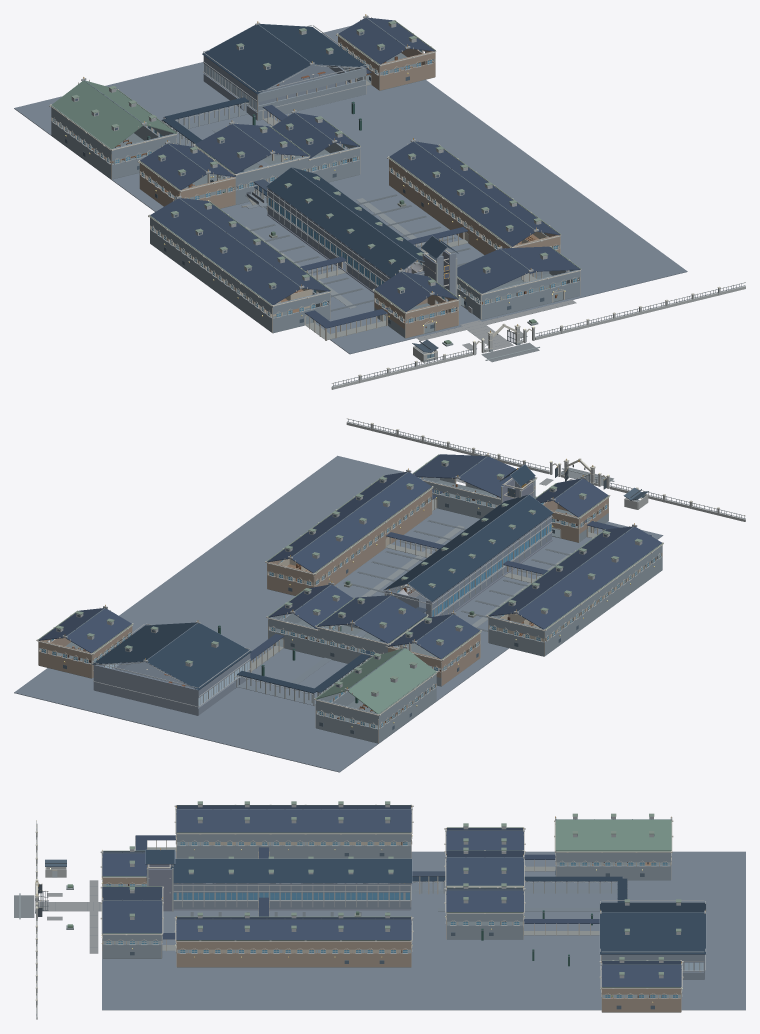
Rendered from lahudi-academy_GATE-FORECOURT_V13.glb.
3 views of the same model, one above another, from view 1: azimuth 30°, elevation 25°; view 2: azimuth 150°, elevation 25°; view 3: azimuth 270°, elevation 25° (orthographic). The views are drawn at different scales.
Visible parts, largest first — view 1: RG-GAME-02-EXTERIOR-REBUILD-V5__winter_campus_snowbase, RG-GAME-02-EXTERIOR-REBUILD-V5__academic_high_gable_slate_ro (×2), RG-GAME-02-EXTERIOR-REBUILD-V5__library_high_gable_slate_roo (×2), RG-GAME-02-PLAN-LOCK-V9__B_WEST_side_0, RG-GAME-02-PLAN-LOCK-V9__C_EAST_side_0, RG-GAME-02-PLAN-LOCK-V9__G_ASSEMBLY_side_0, RG-GAME-02-PLAN-LOCK-V9__B_WEST_side_1, RG-GAME-02-PLAN-LOCK-V9__B_WEST_west_wall_band_-68.00_24.00 (×2), RG-GAME-02-PLAN-LOCK-V9__E_CENTER_HALL_side_0, RG-GAME-02-PLAN-LOCK-V9__D_EAST_ENTRY_side_0, RG-GAME-02-PLAN-LOCK-V9__C_EAST_west_wall_band_-68.00_24.00 (×2), RG-GAME-02-PLAN-LOCK-V9__F_LIBRARY_SOUTH_REPLACEMENT_wall_ba (×2) (+27 smaller); view 2: RG-GAME-02-EXTERIOR-REBUILD-V5__winter_campus_snowbase, RG-GAME-02-EXTERIOR-REBUILD-V5__academic_high_gable_slate_ro (×2), RG-GAME-02-EXTERIOR-REBUILD-V5__library_high_gable_slate_roo (×2), RG-GAME-02-PLAN-LOCK-V9__B_WEST_side_0, RG-GAME-02-PLAN-LOCK-V9__C_EAST_side_0, RG-GAME-02-EXTERIOR-REBUILD-V5__library_endwall_north, RG-GAME-02-PLAN-LOCK-V9__G_ASSEMBLY_side_0, RG-GAME-02-PLAN-LOCK-V9__B_WEST_side_1, RG-GAME-02-PLAN-LOCK-V9__B_WEST_west_wall_band_-68.00_24.00 (×2), RG-GAME-02-PLAN-LOCK-V9__E_CENTER_HALL_side_0, RG-GAME-02-PLAN-LOCK-V9__C_EAST_west_wall_band_-68.00_24.00 (×2), RG-GAME-02-PLAN-LOCK-V9__C_EAST_side_1 (+24 smaller); view 3: RG-GAME-02-EXTERIOR-REBUILD-V5__winter_campus_snowbase, RG-GAME-02-EXTERIOR-REBUILD-V5__academic_high_gable_slate_ro, RG-GAME-02-EXTERIOR-REBUILD-V5__library_high_gable_slate_roo (×2), RG-GAME-02-PLAN-LOCK-V9__B_WEST_side_1, RG-GAME-02-PLAN-LOCK-V9__C_EAST_side_1, RG-GAME-02-PLAN-LOCK-V9__G_ASSEMBLY_side_1, RG-GAME-02-PLAN-LOCK-V9__C_EAST_east_wall_band_-68.00_24.00 (×2), RG-GAME-02-PLAN-LOCK-V9__B_WEST_east_wall_band_-68.00_24.00 (×2), RG-GAME-02-PLAN-LOCK-V9__E_CENTER_HALL_side_1, RG-GAME-02-PLAN-LOCK-V9__C_EAST_east_low_wall_-68.00_24.00, RG-GAME-02-PLAN-LOCK-V9__D_EAST_ENTRY_side_1, RG-GAME-02-PLAN-LOCK-V9__G_ASSEMBLY_east_wall_band_-170.00_- (×2) (+37 smaller).
Boxes of the visible parts, box(x1,y1,x2,y2) form: RG-GAME-02-EXTERIOR-REBUILD-V5__winter_campus_snowbase: box(14, 25, 687, 354); RG-GAME-02-EXTERIOR-REBUILD-V5__academic_high_gable_slate_ro (×2): box(266, 167, 434, 277); RG-GAME-02-EXTERIOR-REBUILD-V5__library_high_gable_slate_roo (×2): box(202, 24, 367, 94); RG-GAME-02-PLAN-LOCK-V9__B_WEST_side_0: box(150, 198, 300, 304); RG-GAME-02-PLAN-LOCK-V9__C_EAST_side_0: box(389, 142, 534, 246); RG-GAME-02-PLAN-LOCK-V9__G_ASSEMBLY_side_0: box(52, 81, 143, 149); RG-GAME-02-PLAN-LOCK-V9__B_WEST_side_1: box(180, 198, 330, 291); RG-GAME-02-PLAN-LOCK-V9__B_WEST_west_wall_band_-68.00_24.00 (×2): box(150, 215, 272, 323); RG-GAME-02-PLAN-LOCK-V9__E_CENTER_HALL_side_0: box(195, 124, 271, 173); RG-GAME-02-PLAN-LOCK-V9__D_EAST_ENTRY_side_0: box(457, 249, 529, 293); RG-GAME-02-PLAN-LOCK-V9__C_EAST_west_wall_band_-68.00_24.00 (×2): box(389, 158, 511, 251); RG-GAME-02-PLAN-LOCK-V9__F_LIBRARY_SOUTH_REPLACEMENT_wall_ba (×2): box(257, 68, 365, 111); RG-GAME-02-EXTERIOR-REBUILD-V5__winter_campus_snowbase: box(14, 455, 663, 772); RG-GAME-02-EXTERIOR-REBUILD-V5__academic_high_gable_slate_ro (×2): box(384, 495, 553, 601); RG-GAME-02-EXTERIOR-REBUILD-V5__library_high_gable_slate_roo (×2): box(92, 622, 251, 690); RG-GAME-02-PLAN-LOCK-V9__B_WEST_side_0: box(517, 527, 661, 629); RG-GAME-02-PLAN-LOCK-V9__C_EAST_side_0: box(291, 472, 431, 573); RG-GAME-02-EXTERIOR-REBUILD-V5__library_endwall_north: box(93, 665, 198, 715); RG-GAME-02-PLAN-LOCK-V9__G_ASSEMBLY_side_0: box(347, 648, 436, 714); RG-GAME-02-PLAN-LOCK-V9__B_WEST_side_1: box(489, 526, 632, 616); RG-GAME-02-PLAN-LOCK-V9__B_WEST_west_wall_band_-68.00_24.00 (×2): box(544, 543, 662, 647); RG-GAME-02-PLAN-LOCK-V9__E_CENTER_HALL_side_0: box(353, 595, 426, 643); RG-GAME-02-PLAN-LOCK-V9__C_EAST_west_wall_band_-68.00_24.00 (×2): box(314, 487, 431, 587); RG-GAME-02-PLAN-LOCK-V9__C_EAST_side_1: box(267, 472, 406, 562); RG-GAME-02-EXTERIOR-REBUILD-V5__winter_campus_snowbase: box(102, 851, 745, 1010); RG-GAME-02-EXTERIOR-REBUILD-V5__academic_high_gable_slate_ro: box(170, 859, 411, 883); RG-GAME-02-EXTERIOR-REBUILD-V5__library_high_gable_slate_roo (×2): box(600, 902, 705, 954); RG-GAME-02-PLAN-LOCK-V9__B_WEST_side_1: box(176, 809, 411, 832); RG-GAME-02-PLAN-LOCK-V9__C_EAST_side_1: box(176, 919, 411, 940); RG-GAME-02-PLAN-LOCK-V9__G_ASSEMBLY_side_1: box(555, 819, 671, 850); RG-GAME-02-PLAN-LOCK-V9__C_EAST_east_wall_band_-68.00_24.00 (×2): box(177, 941, 411, 958); RG-GAME-02-PLAN-LOCK-V9__B_WEST_east_wall_band_-68.00_24.00 (×2): box(177, 834, 411, 851); RG-GAME-02-PLAN-LOCK-V9__E_CENTER_HALL_side_1: box(446, 857, 523, 885); RG-GAME-02-PLAN-LOCK-V9__C_EAST_east_low_wall_-68.00_24.00: box(177, 959, 411, 967); RG-GAME-02-PLAN-LOCK-V9__D_EAST_ENTRY_side_1: box(102, 900, 162, 933); RG-GAME-02-PLAN-LOCK-V9__G_ASSEMBLY_east_wall_band_-170.00_- (×2): box(556, 852, 670, 871).
Size of the model in its own units: 180 by 26.24 by 288.
